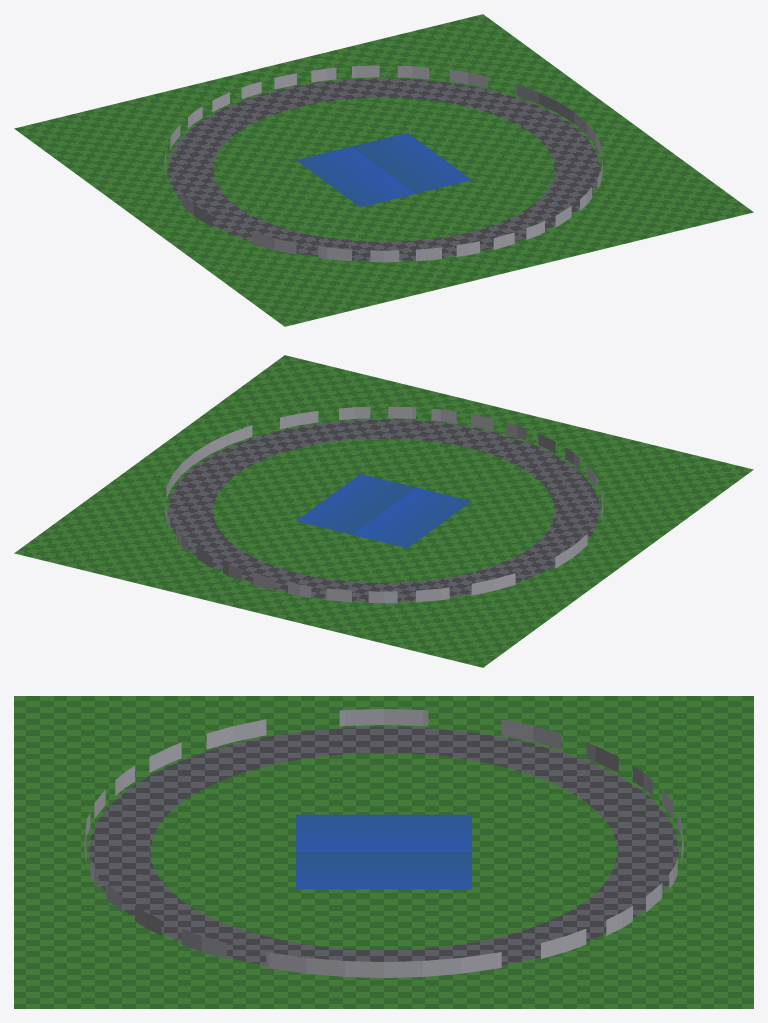
File: course.dae
The picture shows the model from 3 angles, top to bottom: view 1: azimuth 30°, elevation 25°; view 2: azimuth 150°, elevation 25°; view 3: azimuth 270°, elevation 25°; orthographic projection. The views are drawn at different scales.
Visible parts, largest first — view 1: course_grass, course_road, course_water, course_fence; view 2: course_grass, course_road, course_water, course_fence; view 3: course_grass, course_road, course_water, course_fence.
Part boxes in pixels (box(x1,y1,x2,y2)): course_grass: box(14, 14, 753, 326); course_road: box(168, 78, 599, 260); course_water: box(296, 133, 471, 207); course_fence: box(164, 65, 602, 262); course_grass: box(14, 355, 753, 667); course_road: box(168, 419, 599, 601); course_water: box(296, 474, 471, 548); course_fence: box(165, 406, 603, 603); course_grass: box(14, 696, 753, 1008); course_road: box(89, 726, 678, 965); course_water: box(296, 814, 471, 889); course_fence: box(84, 709, 683, 977).
Bounding box in the file's own units: 33600 × 850 × 33600.
4 materials, 4 textured.
